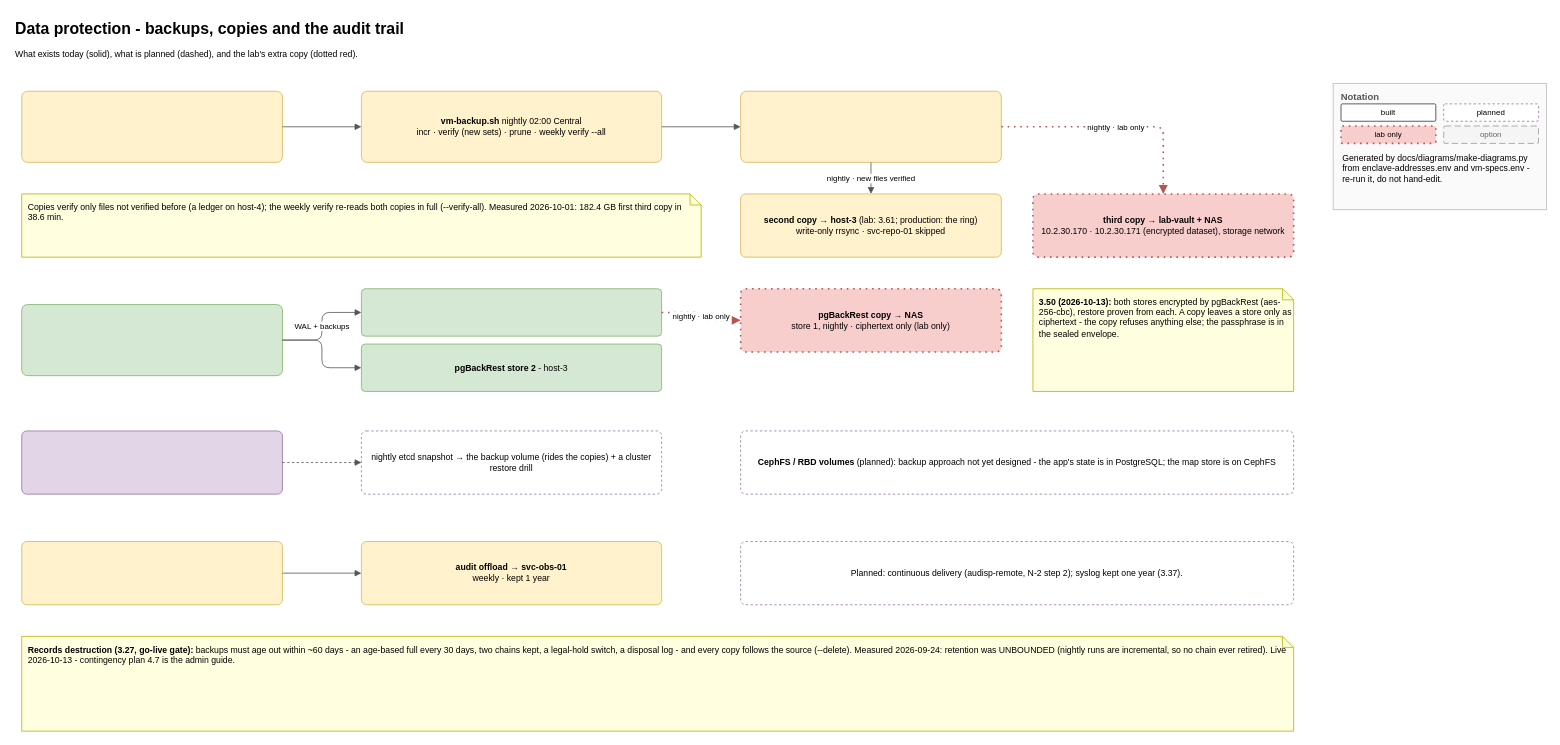
This 1560x745 diagram has some shape labels left out. Each missing label, with the centre of its shape:
"/mnt/vmbackup on host-4 USB SSD, LUKS · 2 chains kept" belongs at point (870, 126).
"all 11 enclave machines audit logs" belongs at point (151, 573).
"host-4's guests svc-mgmt-01 · svc-repo-01 · svc-harbor-01 · svc-obs-01" belongs at point (151, 126).
"Kubernetes etcd (planned)" belongs at point (151, 462).
"pg-01..03 Patroni · the app's real records" belongs at point (151, 340).
"pgBackRest store 1 - host-4 /srv/pgbackrest/repo" belongs at point (511, 312).
